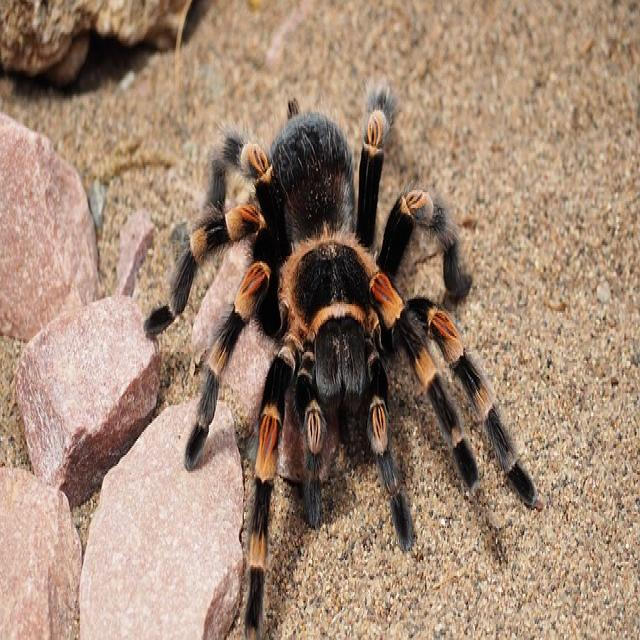spyder: (146, 82, 539, 636)
